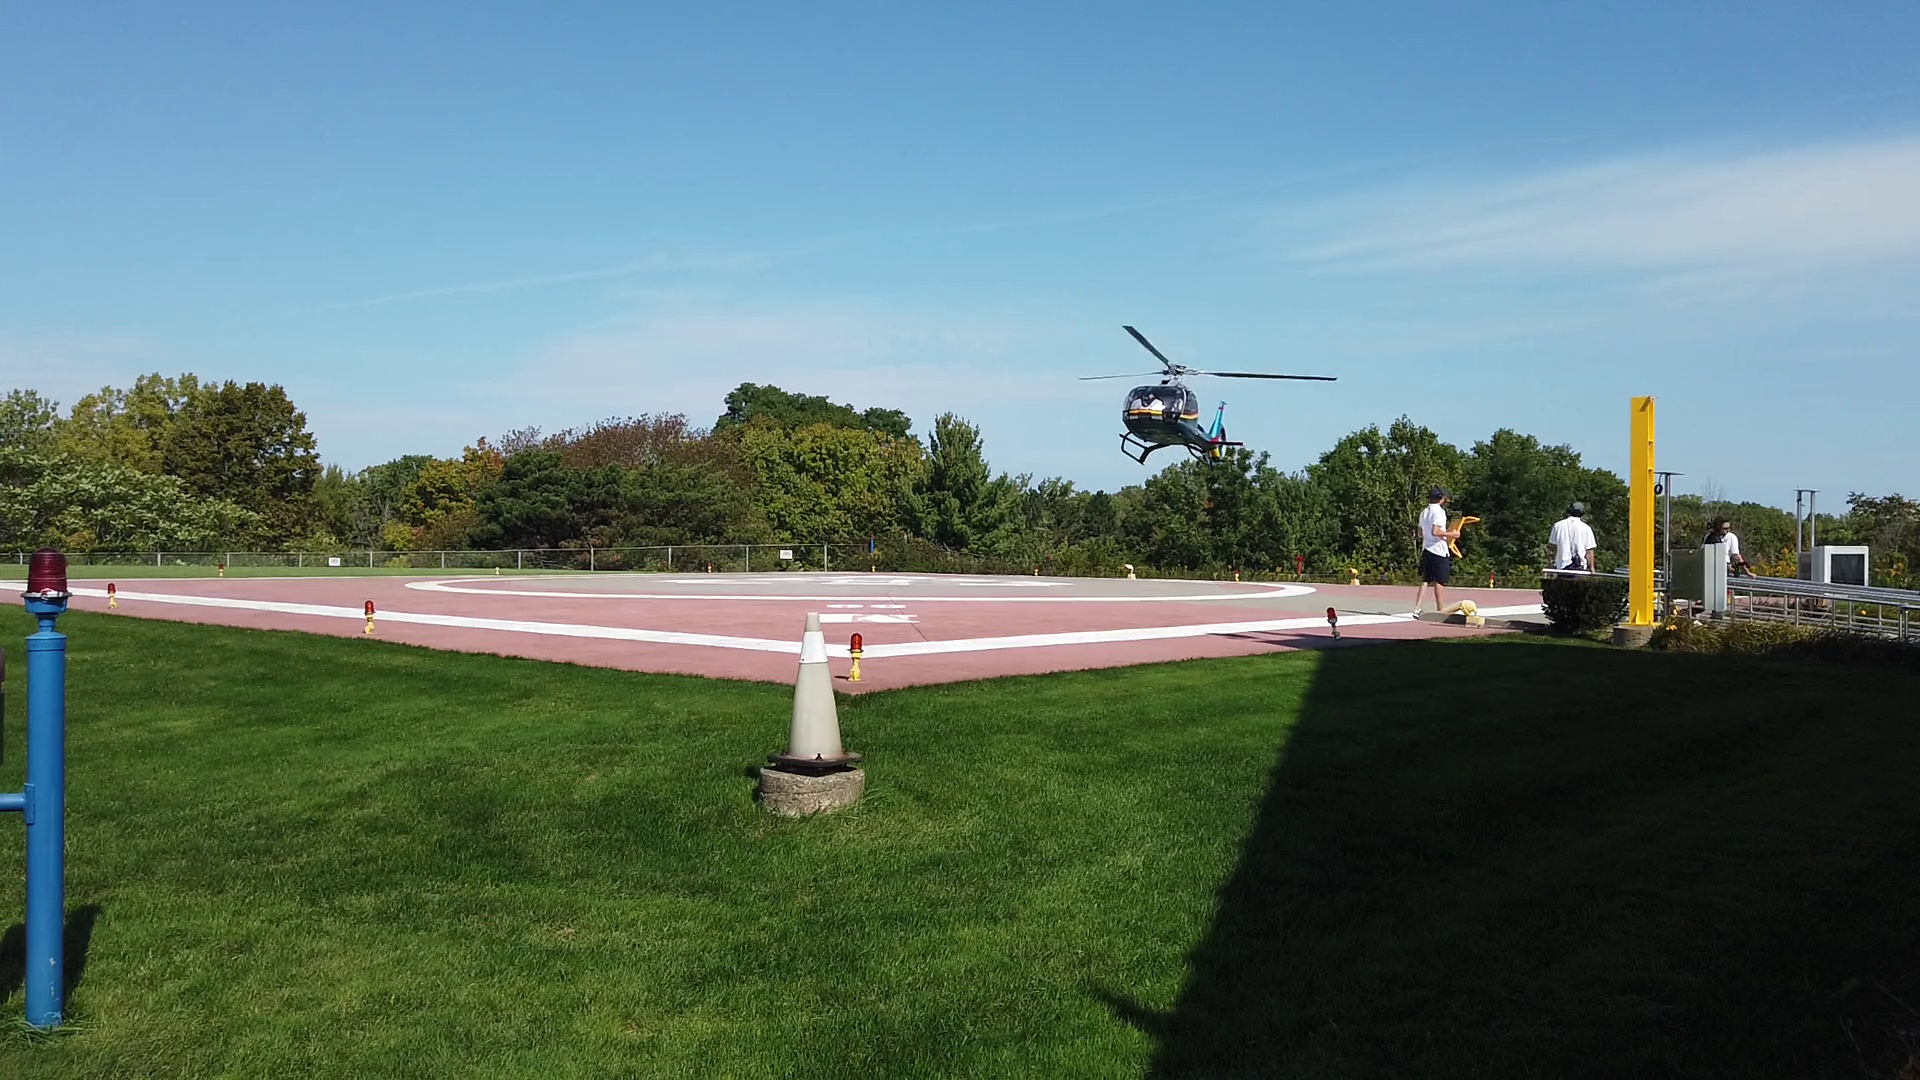heli: (1076, 320, 1335, 468)
